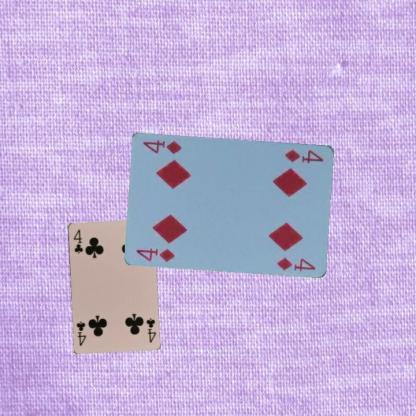4c: (70, 226, 84, 255), (144, 315, 157, 344)
4d: (134, 245, 177, 263), (282, 146, 324, 164)
